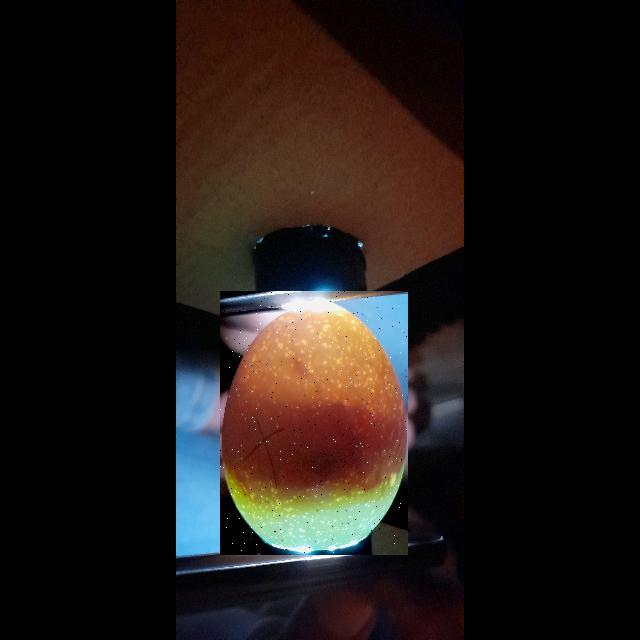Infertile: (220, 291, 408, 555)
